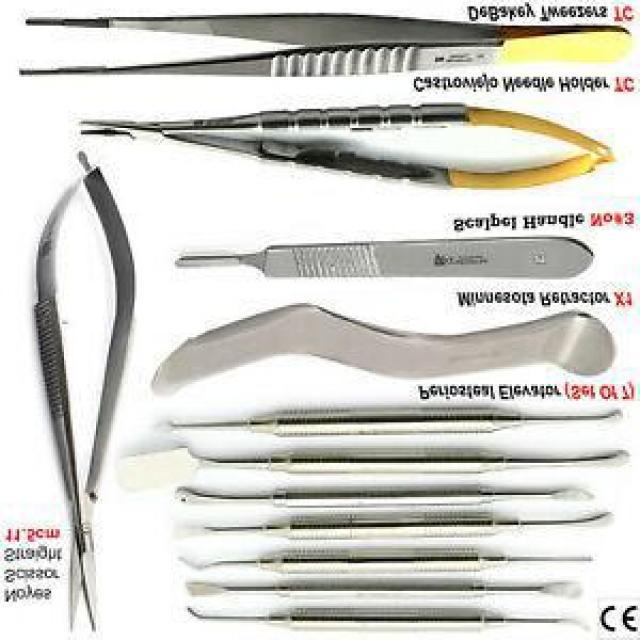Castroviejo: (77, 102, 621, 192)
Forceps: (15, 10, 640, 81)
Potts: (30, 147, 141, 636)
Scalpel: (172, 230, 598, 284)
